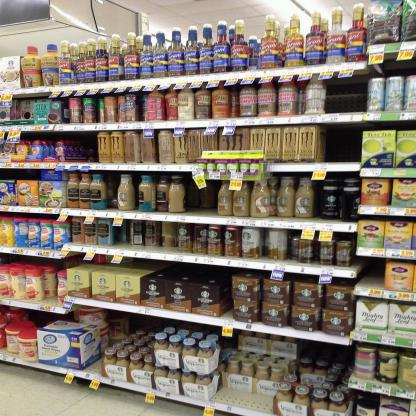Void: (153, 260, 225, 280), (322, 128, 360, 159), (109, 311, 156, 335), (329, 80, 363, 110), (307, 342, 350, 364), (72, 135, 98, 162), (189, 186, 215, 212), (360, 257, 385, 284)
